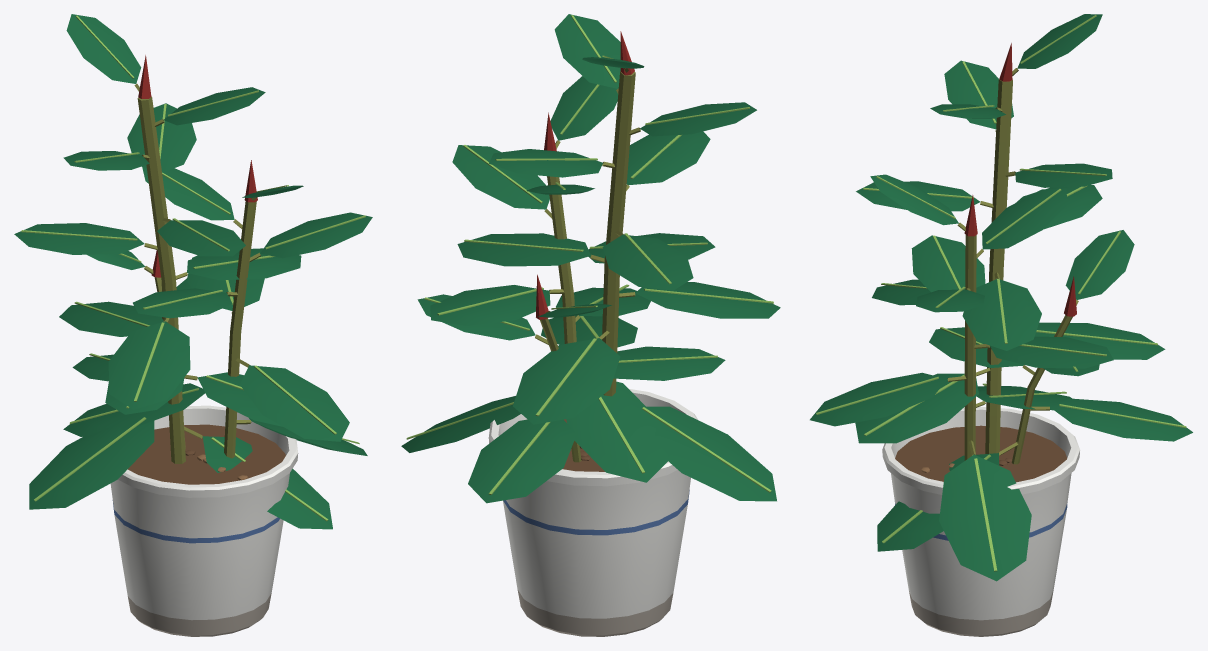
File: SC_Home_Potted_Plant_Rubber.gltf
3 renders of one model, left to right at view 1: azimuth 30°, elevation 25°; view 2: azimuth 150°, elevation 25°; view 3: azimuth 270°, elevation 25°, orthographic. The views are drawn at different scales.
Parts seen in each view (by area): view 1: SC_Home_Potted_Plant_Rubber; view 2: SC_Home_Potted_Plant_Rubber; view 3: SC_Home_Potted_Plant_Rubber.
Part boxes in pixels (left/top/right/bottom): SC_Home_Potted_Plant_Rubber: left=14, top=14, right=372, bottom=636; SC_Home_Potted_Plant_Rubber: left=401, top=14, right=780, bottom=636; SC_Home_Potted_Plant_Rubber: left=810, top=14, right=1192, bottom=636.
Bounding box in the file's own units: 0.7026 × 1.12 × 0.6909.
1 material, 1 textured.
